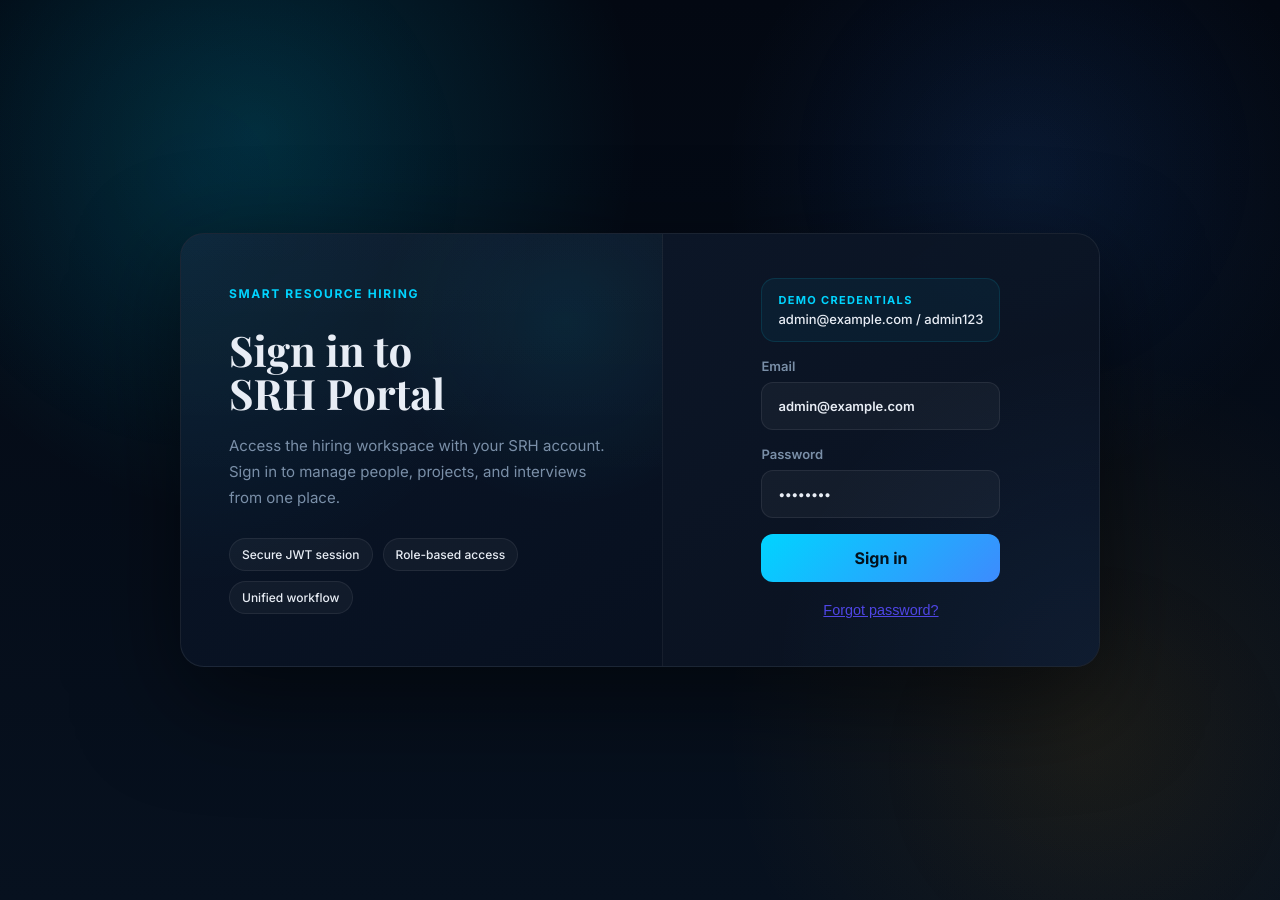
Test case: App authentication flow › shows a useful error when login is rejected
What coordinates should you click on to do the following:
click the button "Sign in"
I would click on:
 (881, 558)
Its box is [762, 534, 1000, 582].
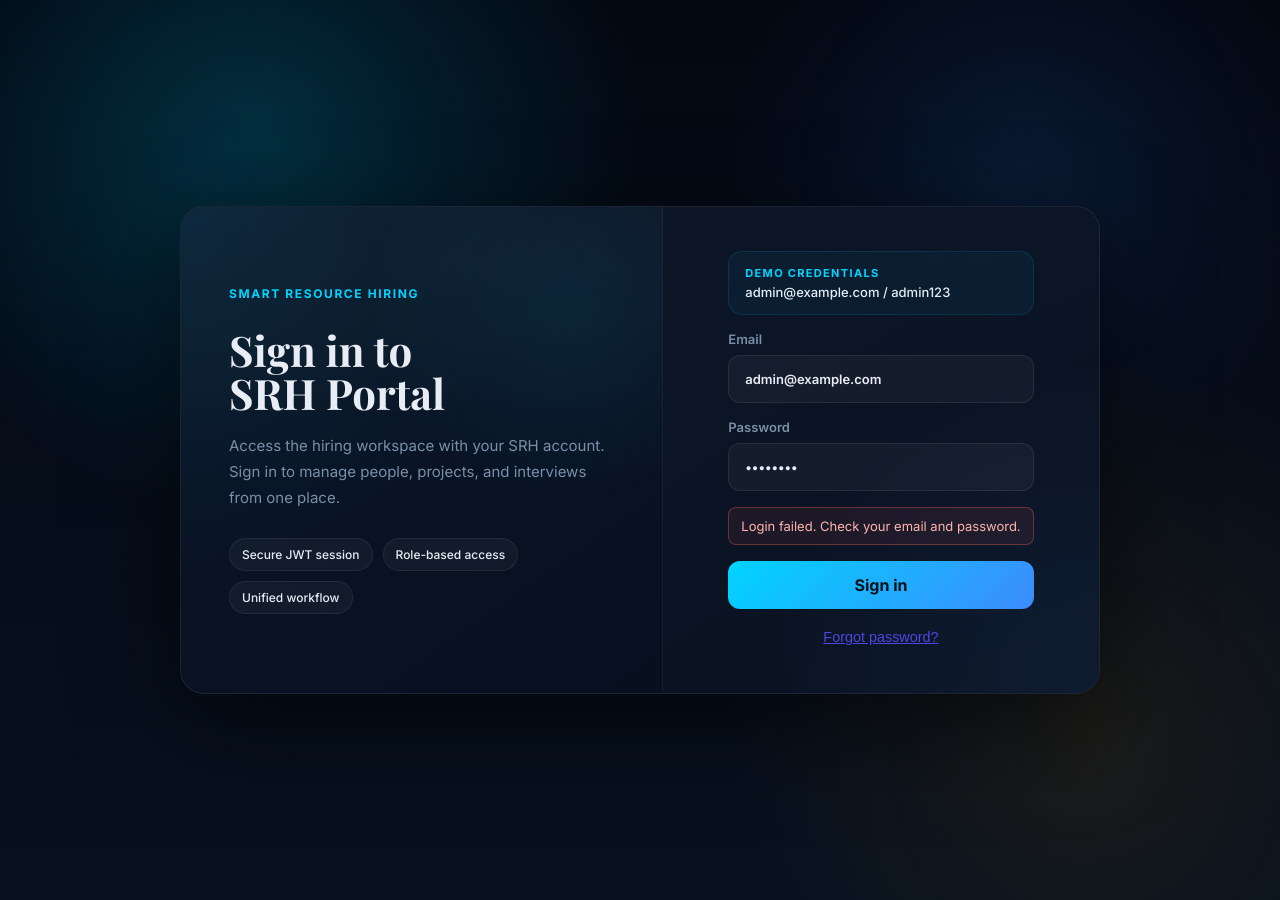
expect the button "Sign in" is enabled: met, box [728, 561, 1034, 609]
expect the text "Login failed. Check your email and password." is shown: met, box [728, 507, 1034, 545]
